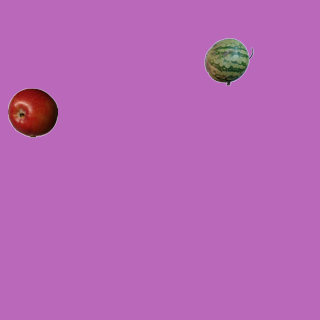Apple Braeburn: (7, 87, 57, 137)
Watermelon: (203, 36, 253, 86)
